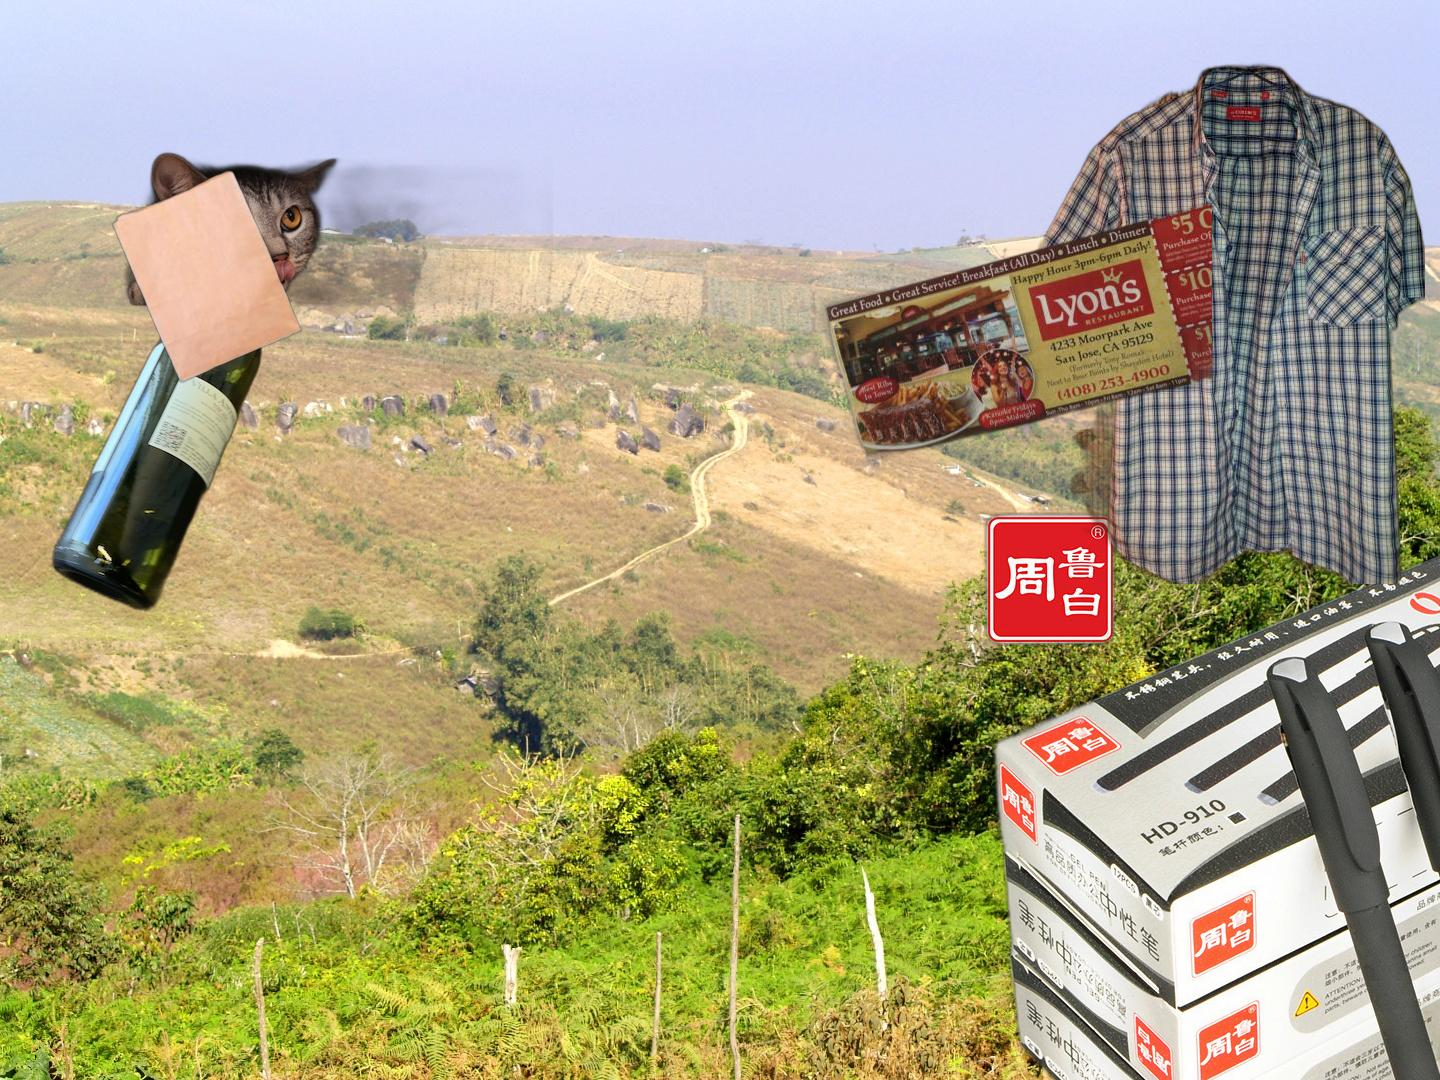clothes: (1025, 61, 1425, 584)
glass: (49, 220, 281, 616)
paper: (815, 199, 1212, 467)
paper-bag: (109, 168, 304, 385)
penholder: (969, 501, 1440, 1080)
trashbox-cardboard: (118, 150, 553, 313)
